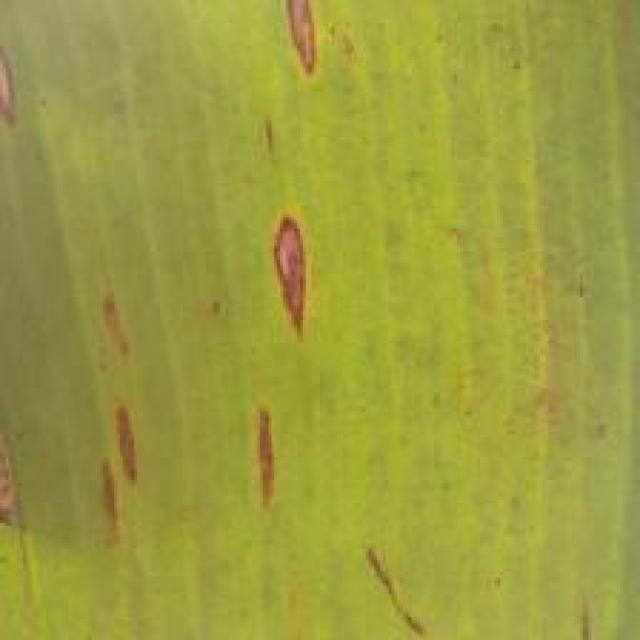Early_leaf_spot: (347, 527, 471, 640), (252, 173, 325, 338), (76, 394, 159, 533), (249, 0, 341, 100), (240, 369, 290, 514), (86, 265, 139, 359), (0, 414, 35, 532), (0, 34, 31, 139), (245, 100, 290, 167), (563, 581, 598, 640), (207, 294, 228, 323)
